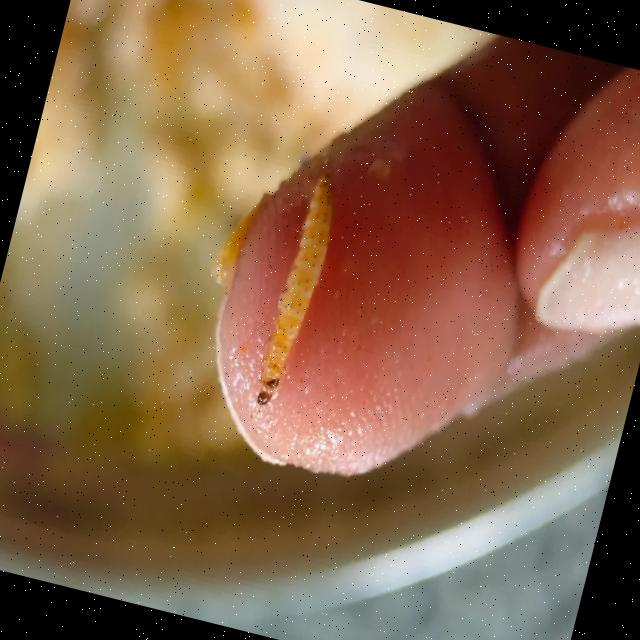worm: (226, 149, 363, 431)
